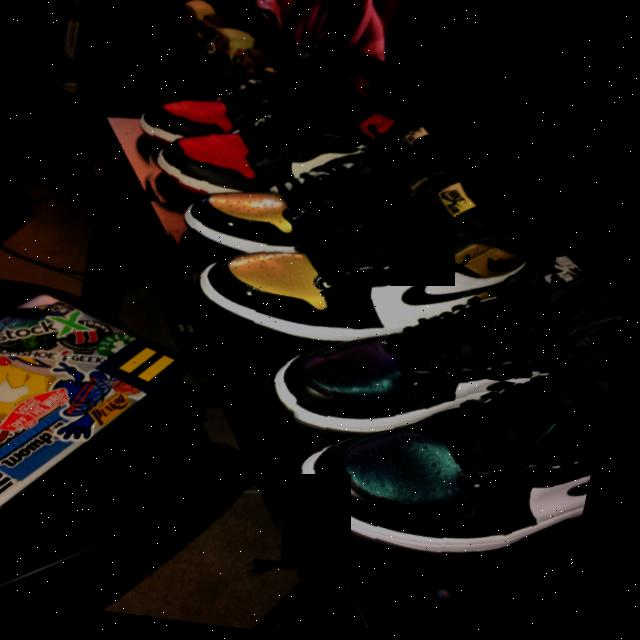shoe: (245, 211, 631, 503), (175, 122, 578, 397), (267, 315, 621, 593), (160, 78, 489, 305), (134, 46, 456, 246)
